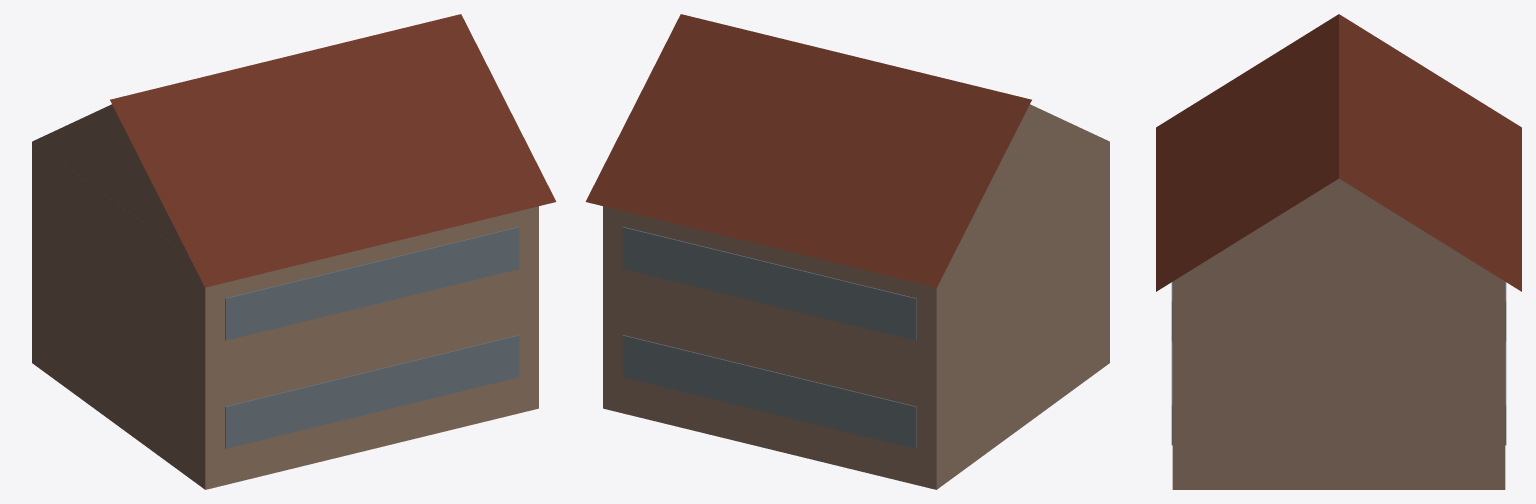
File: village-store.tone-v1.lod2.glb
The picture shows the model from 3 angles, left to right: view 1: azimuth 30°, elevation 25°; view 2: azimuth 150°, elevation 25°; view 3: azimuth 270°, elevation 25°; orthographic projection. The views are drawn at different scales.
Parts seen in each view (by area): view 1: village-store; view 2: village-store; view 3: village-store.
Part boxes in pixels (<box>): village-store: <box>32,14,556,489</box>; village-store: <box>585,14,1109,489</box>; village-store: <box>1156,14,1521,489</box>.
Size of the model in its own units: 10.54 by 9.43 by 9.9.
